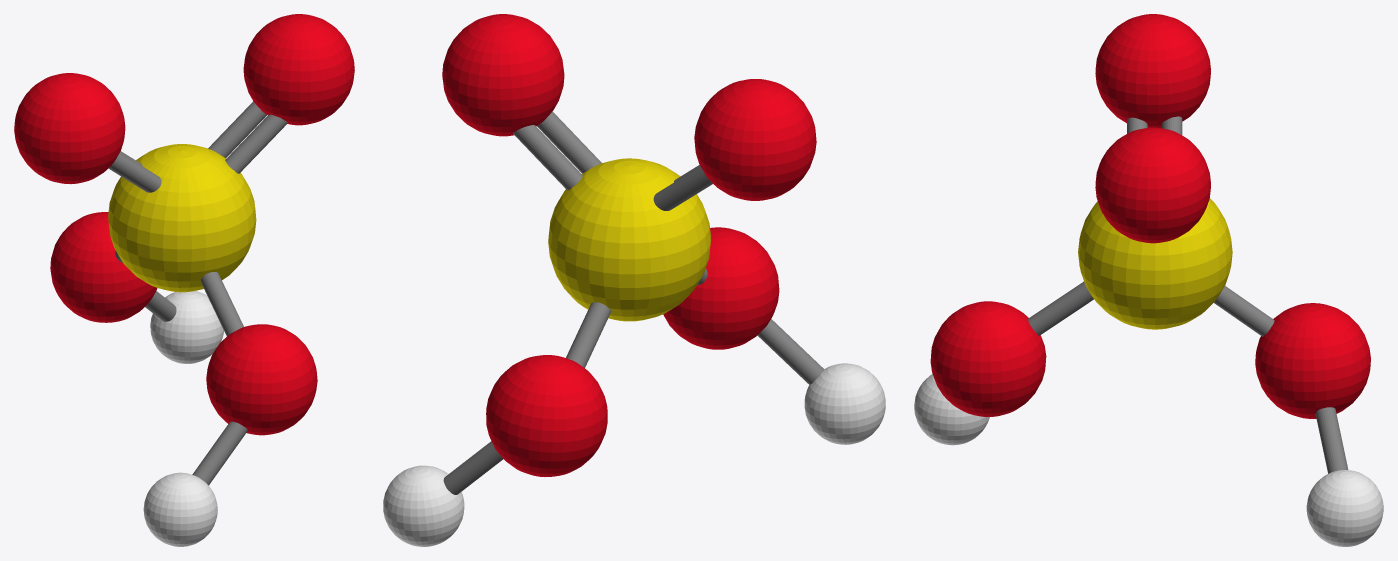
The picture shows the model from 3 angles, left to right: view 1: azimuth 30°, elevation 25°; view 2: azimuth 150°, elevation 25°; view 3: azimuth 270°, elevation 25°; orthographic projection. The views are drawn at different scales.
Parts seen in each view (by area): view 1: Sphere.010, кислород двойной.001, кислород двойной.002, кислород двойной.004, кислород двойной.003, Sphere.003, Sphere.009, Cylinder.007, Cylinder.005, Cylinder.013, Cylinder.008, Cylinder.006 (+1 smaller); view 2: Sphere.010, кислород двойной.003, кислород двойной.001, кислород двойной.002, кислород двойной.004, Sphere.003, Sphere.009, Cylinder.008, Cylinder.005, Cylinder.007, Cylinder.002, Cylinder.014 (+1 smaller); view 3: Sphere.010, кислород двойной.002, кислород двойной.004, кислород двойной.003, кислород двойной.001, Sphere.009, Sphere.003, Cylinder.013, Cylinder.014, Cylinder.002.
Boxes of the visible parts, x1,y1,x2,y2 form: Sphere.010: (108, 144, 256, 292); кислород двойной.001: (14, 73, 125, 184); кислород двойной.002: (243, 14, 354, 125); кислород двойной.004: (206, 324, 317, 435); кислород двойной.003: (50, 212, 157, 322); Sphere.003: (143, 472, 217, 546); Sphere.009: (150, 291, 223, 363); Cylinder.007: (225, 114, 287, 173); Cylinder.005: (192, 421, 247, 485); Cylinder.013: (200, 272, 243, 335); Cylinder.008: (208, 101, 266, 157); Cylinder.006: (108, 152, 161, 192); Sphere.010: (548, 158, 710, 321); кислород двойной.003: (486, 355, 607, 476); кислород двойной.001: (694, 79, 816, 200); кислород двойной.002: (442, 14, 564, 136); кислород двойной.004: (663, 227, 779, 349); Sphere.003: (804, 363, 885, 444); Sphere.009: (383, 465, 464, 546); Cylinder.008: (513, 125, 582, 190); Cylinder.005: (757, 319, 824, 384); Cylinder.007: (537, 111, 601, 173); Cylinder.002: (566, 302, 611, 367); Cylinder.014: (443, 441, 503, 494); Sphere.010: (1078, 198, 1232, 329); кислород двойной.002: (1095, 127, 1210, 243); кислород двойной.004: (930, 301, 1046, 416); кислород двойной.003: (1255, 303, 1370, 418); кислород двойной.001: (1095, 14, 1210, 128); Sphere.009: (1306, 470, 1383, 546); Sphere.003: (914, 374, 989, 445); Cylinder.013: (1028, 281, 1093, 335); Cylinder.014: (1315, 407, 1348, 473); Cylinder.002: (1214, 286, 1274, 336).
Size of the model in its own units: 3.04 by 3.6 by 3.64.
